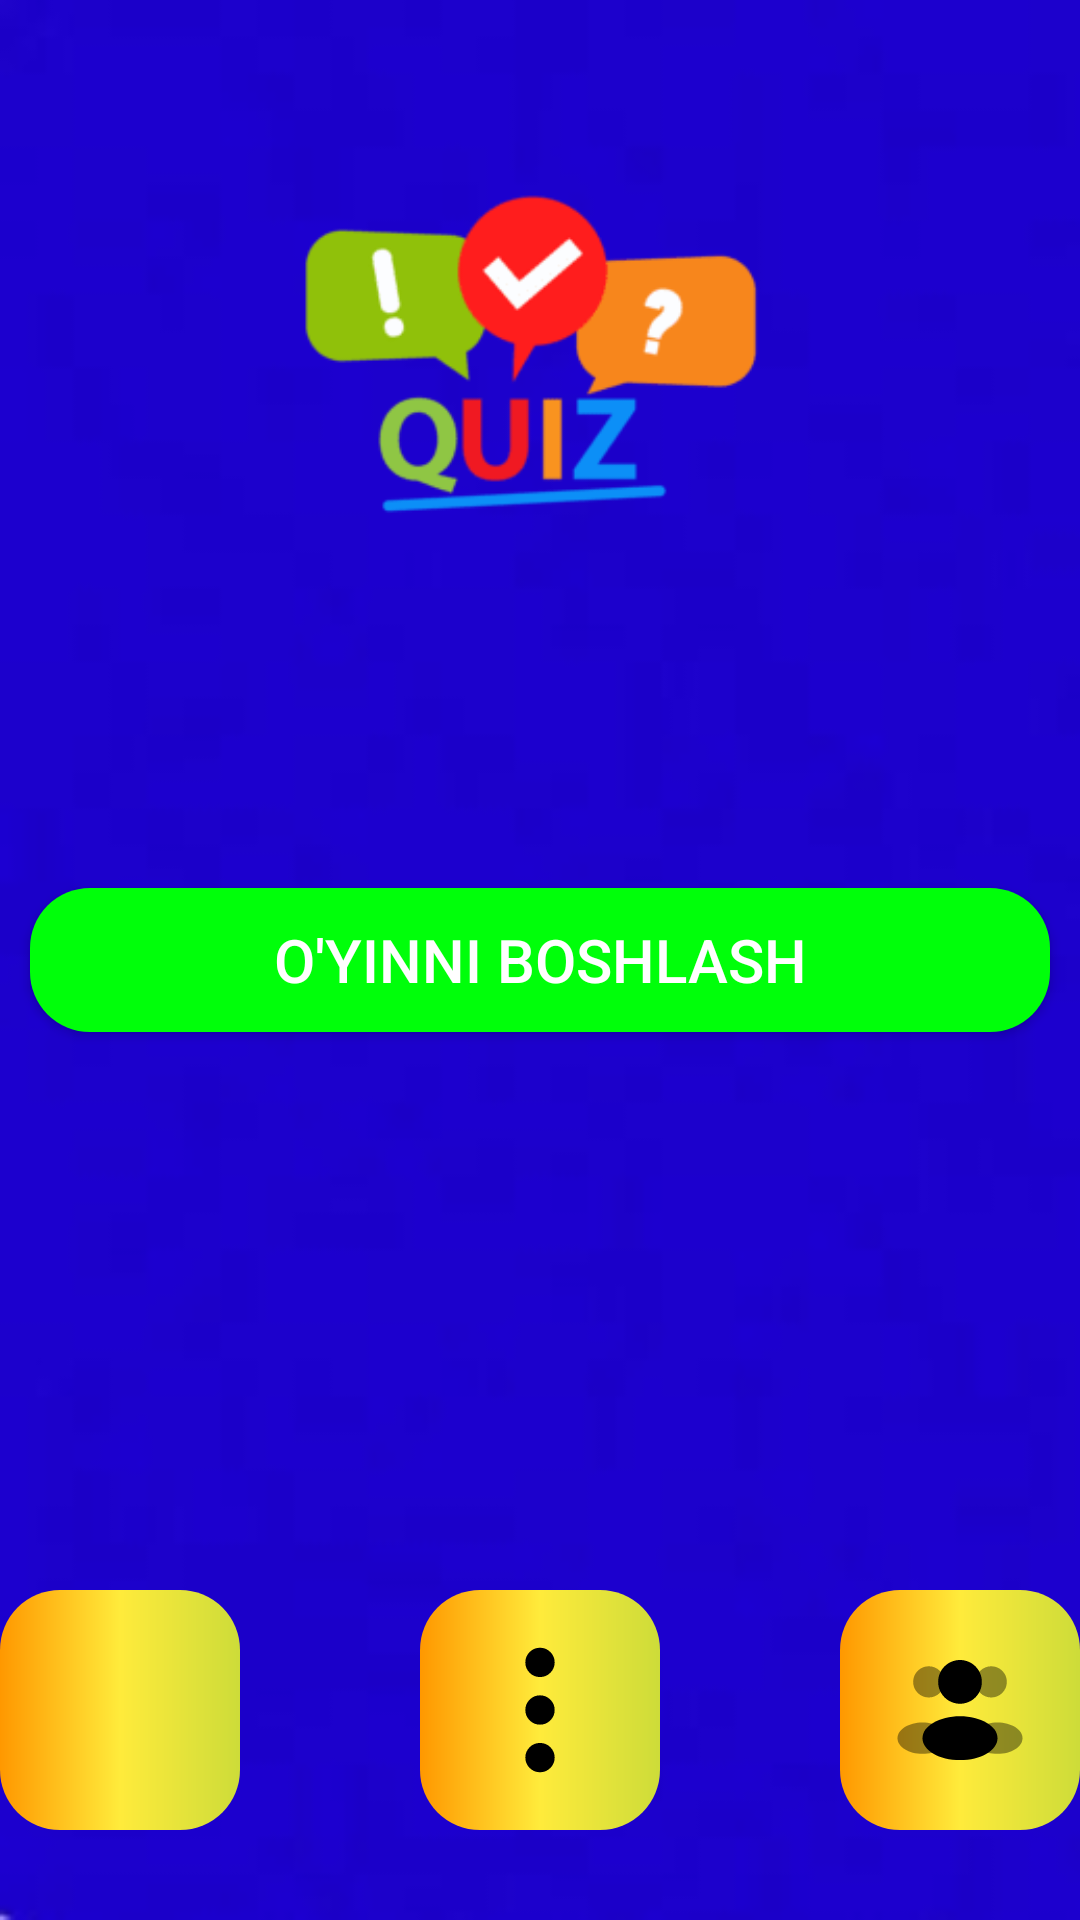

Where to tap for icons on this 1080w x 1920h app screen, as point (x, y):
basic menu other: point (540, 1710)
users group two rounded: point (960, 1710)
